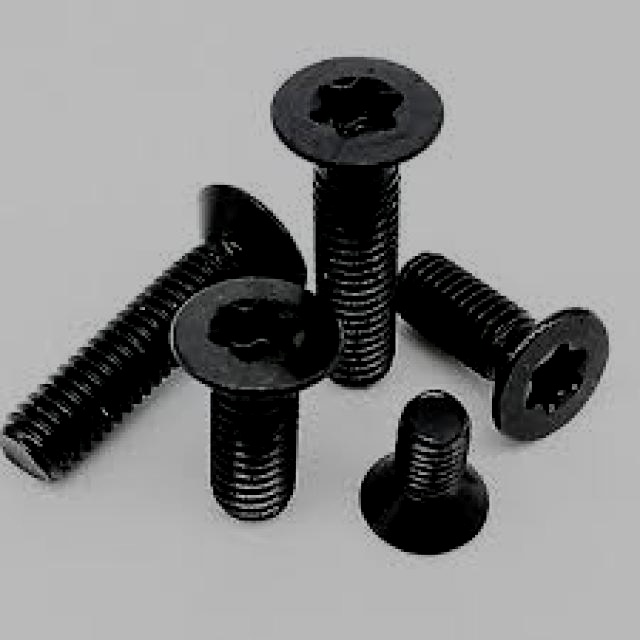torx: (171, 275, 346, 390), (268, 53, 448, 159), (493, 305, 612, 443)
